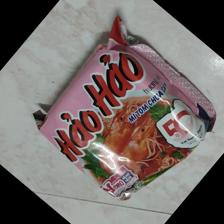Haohao: (36, 12, 217, 206)
